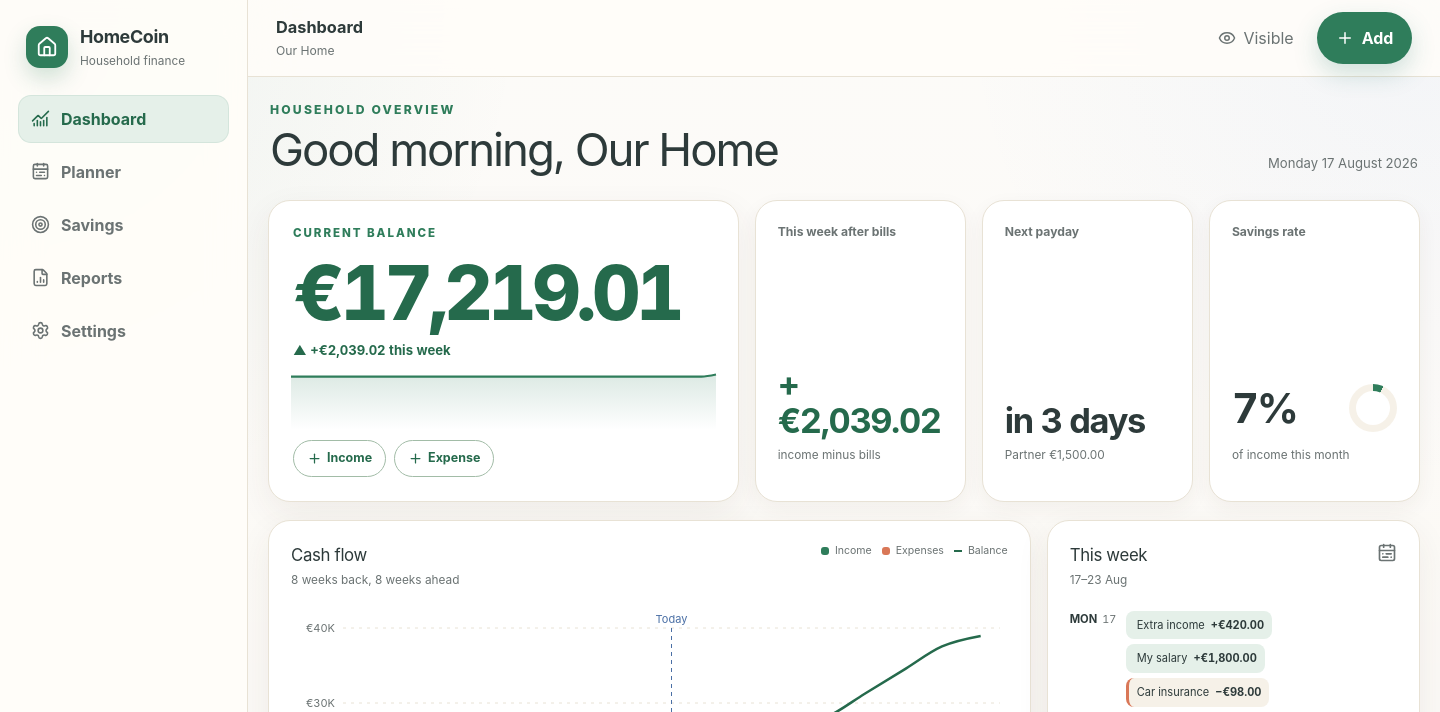
it: HomeCoin app shell › opens the dashboard and navigates to savings
This screenshot has width=1440, height=712.
Check: the heading "Good morning, Our Home" is shown, box [270,125,778,174]
Check: the text "This week after bills" is shown, box [778,223,896,241]
Click the button "Savings" at (124, 225), box [18,201,229,249]
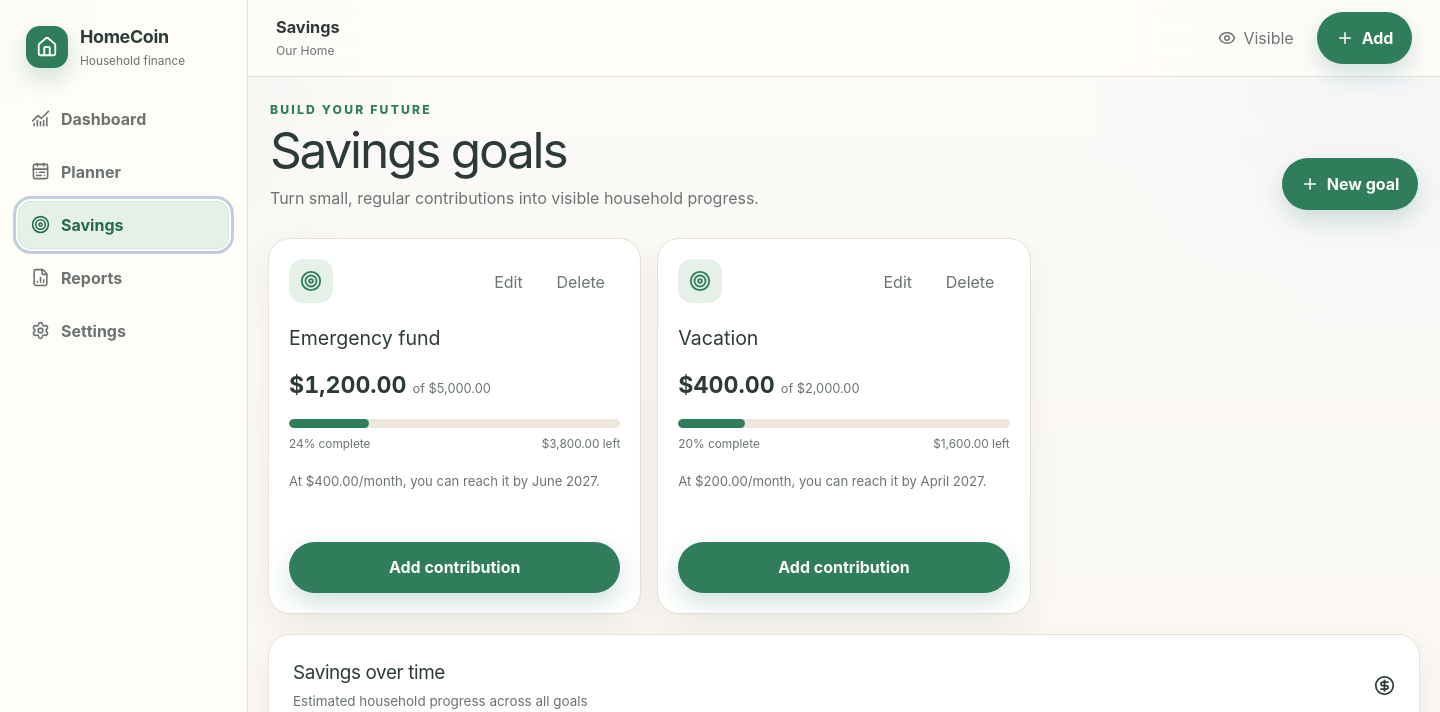
Check: the heading "Emergency fund" is shown, box [289,326,441,350]
Check: the heading "Savings goals" is shown, box [270,120,566,180]
